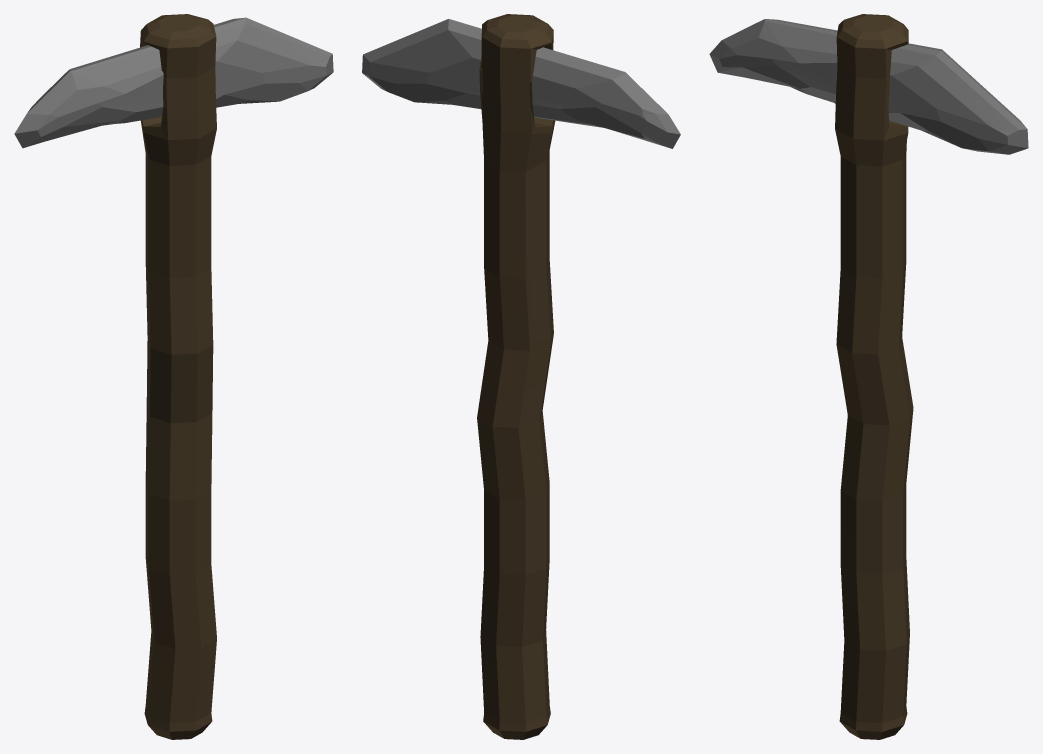
File: stonePick.fbx
3 renders of one model, left to right at view 1: azimuth 30°, elevation 25°; view 2: azimuth 150°, elevation 25°; view 3: azimuth 330°, elevation 25°, orthographic.
Parts seen in each view (by area): view 1: Plane, Cube; view 2: Plane, Cube; view 3: Plane, Cube.
Boxes of the visible parts, bbox=[...] form: Plane: bbox=[140, 14, 216, 739]; Cube: bbox=[14, 17, 333, 148]; Plane: bbox=[477, 14, 555, 739]; Cube: bbox=[362, 19, 680, 148]; Plane: bbox=[835, 14, 913, 739]; Cube: bbox=[709, 19, 1028, 154].
Bounding box in the file's own units: 312 × 660 × 68.45.
